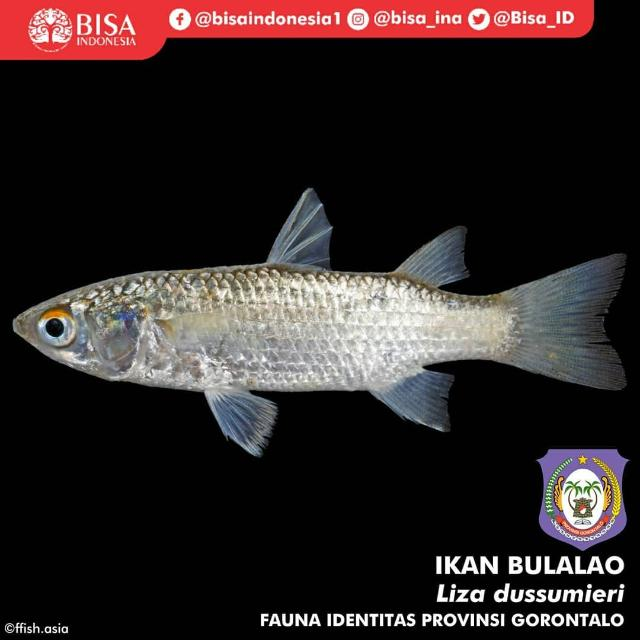Mulut: (8, 300, 66, 364)
Sirip Anal: (369, 352, 465, 450)
Sirip Dada: (140, 290, 246, 356)
Sirip Ekor: (510, 236, 638, 397)
Sirip Perut: (198, 377, 294, 465)
Sirip Punggung: (254, 175, 478, 297)
